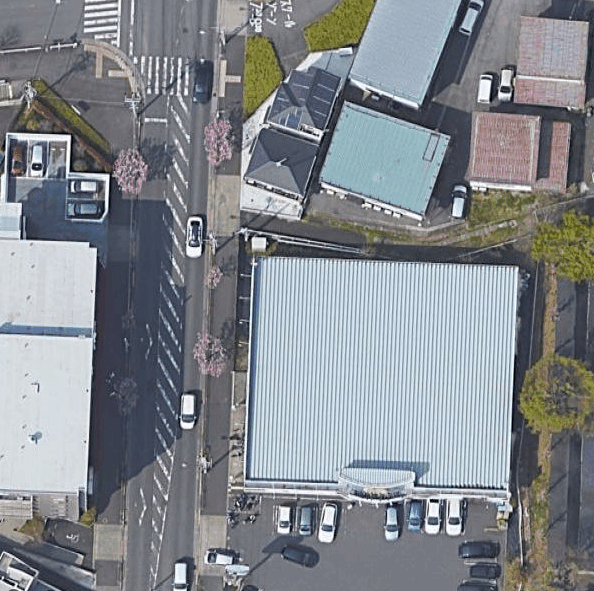flatroof: (0, 233, 94, 499)
